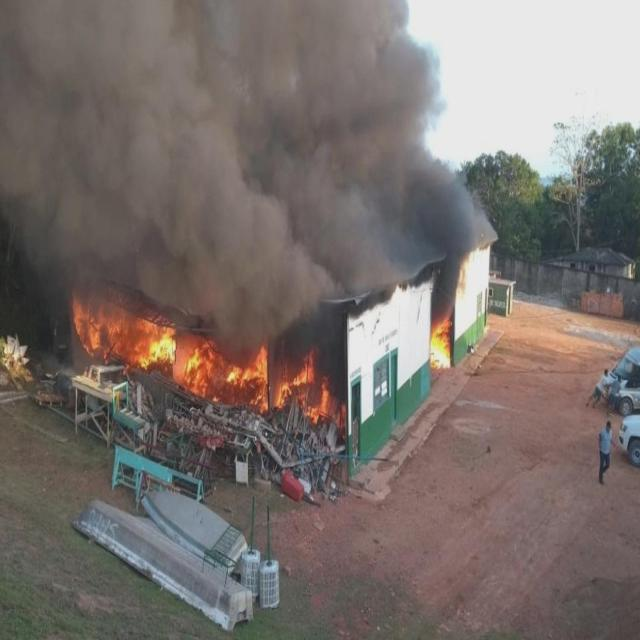fire: (80, 315, 174, 368), (190, 354, 272, 412)
smoke: (48, 26, 421, 234)
